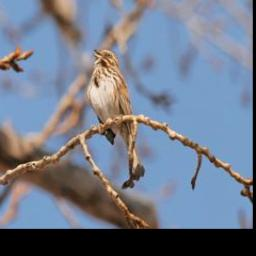Sparrow: (85, 45, 146, 182)
